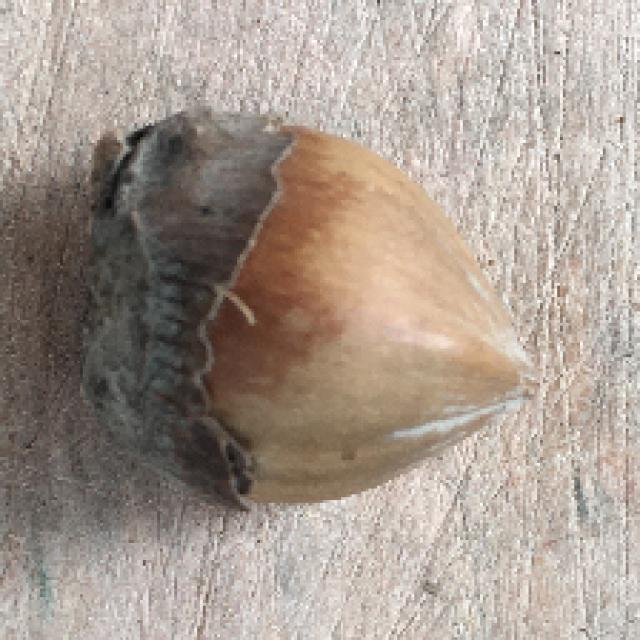damagedHazelnut: (63, 100, 544, 516)
